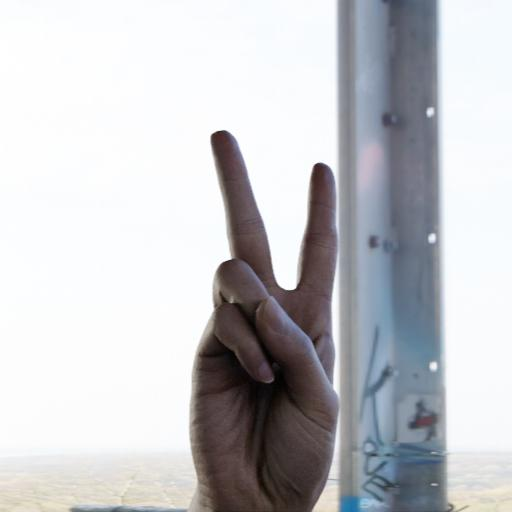V: (143, 107, 364, 512)
